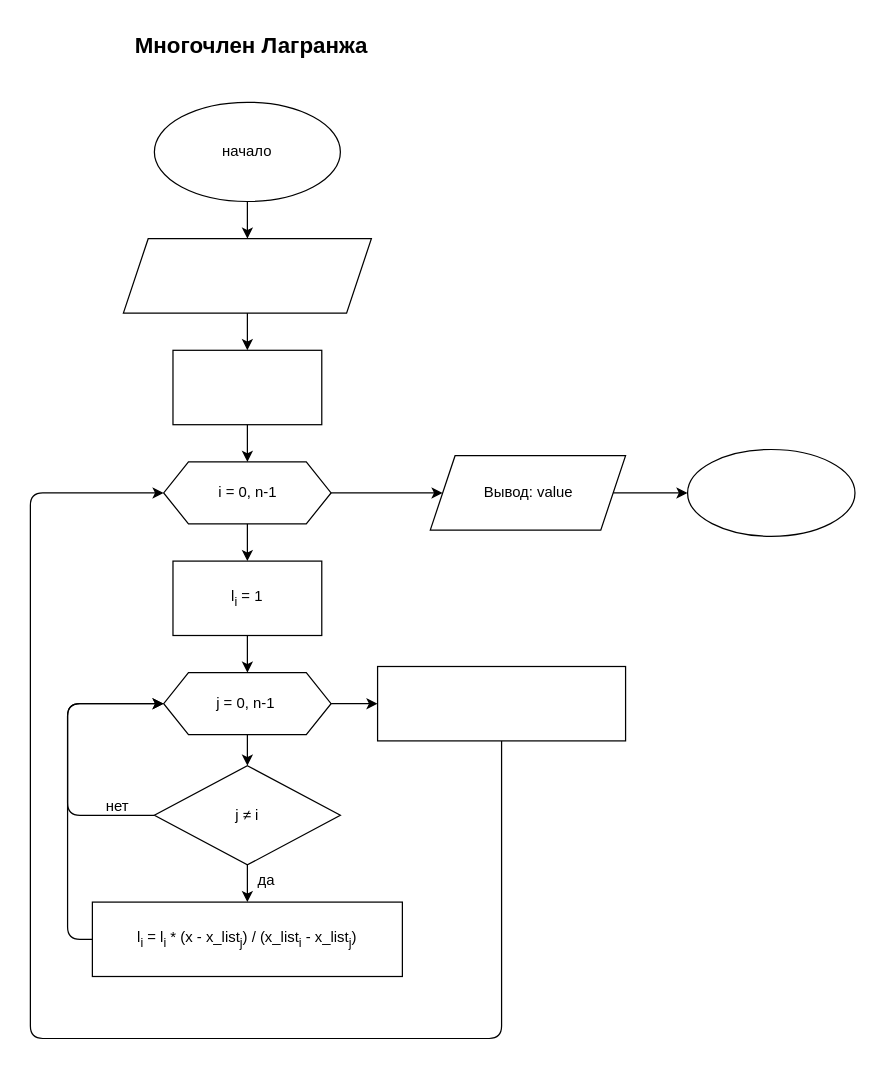
This 877x1070 diagram has some shape labels left out. Here are the shapes that lost their labels. From the top down, the centre of each, then its label:
At (246,275): "n, x, x_list, y_list".
At (247,387): "value = 0".
At (770,492): "конец".
At (501,703): "value = value + y_list i * l i".
